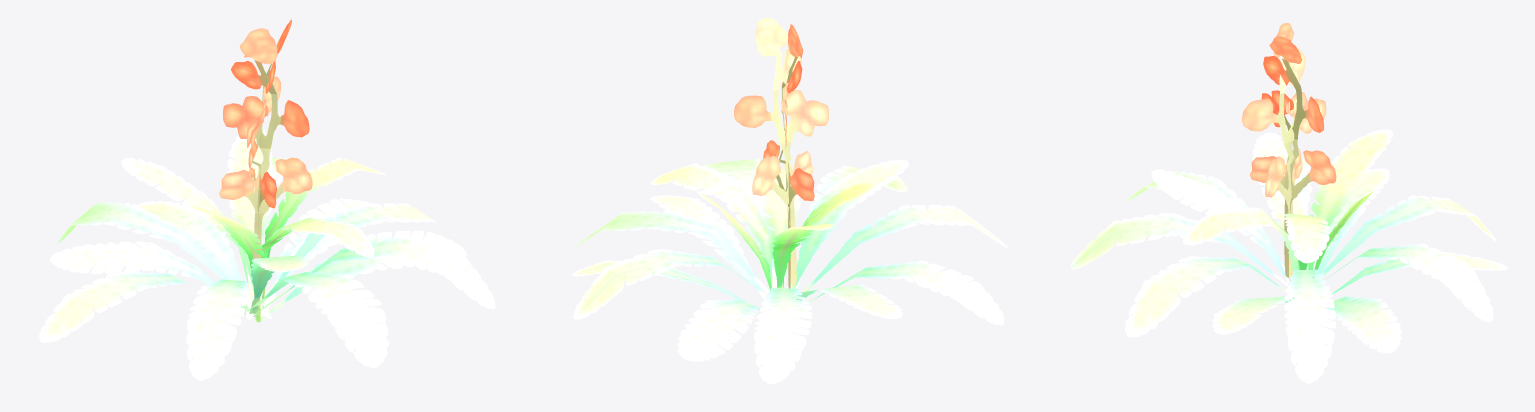
File: Bush_01.fbx
3 renders of one model, left to right at view 1: azimuth 30°, elevation 25°; view 2: azimuth 150°, elevation 25°; view 3: azimuth 270°, elevation 25°, orthographic. The views are drawn at different scales.
Visible parts, largest first — view 1: FLR2; view 2: FLR2; view 3: FLR2.
Boxes of the visible parts, x1,y1,x2,y2 form: FLR2: (39,19,495,380); FLR2: (571,17,1007,384); FLR2: (1070,23,1508,383).
Bounding box in the file's own units: 247 × 160 × 227.
